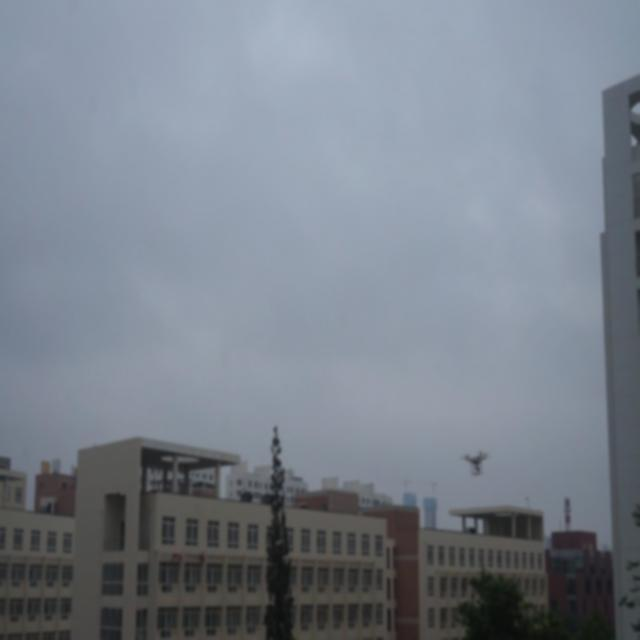UAV: (459, 450, 492, 476)
